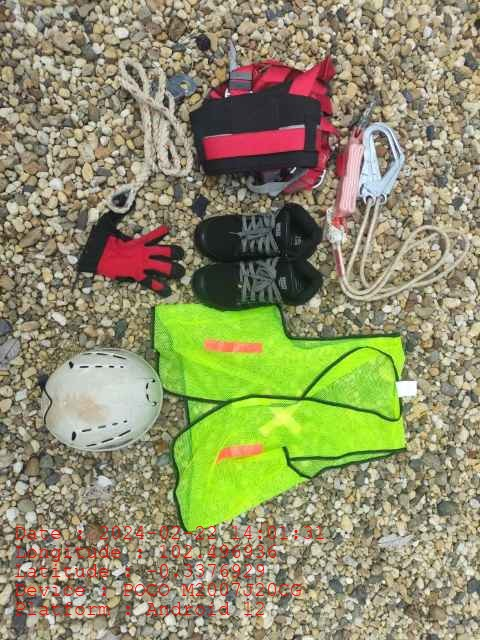HELM: (38, 348, 158, 449)
ROMPI: (157, 306, 408, 524)
SARUNG TANGAN: (80, 221, 183, 299)
SEPATU: (193, 210, 320, 306)
TAMBANG_SLING: (340, 124, 464, 307)
